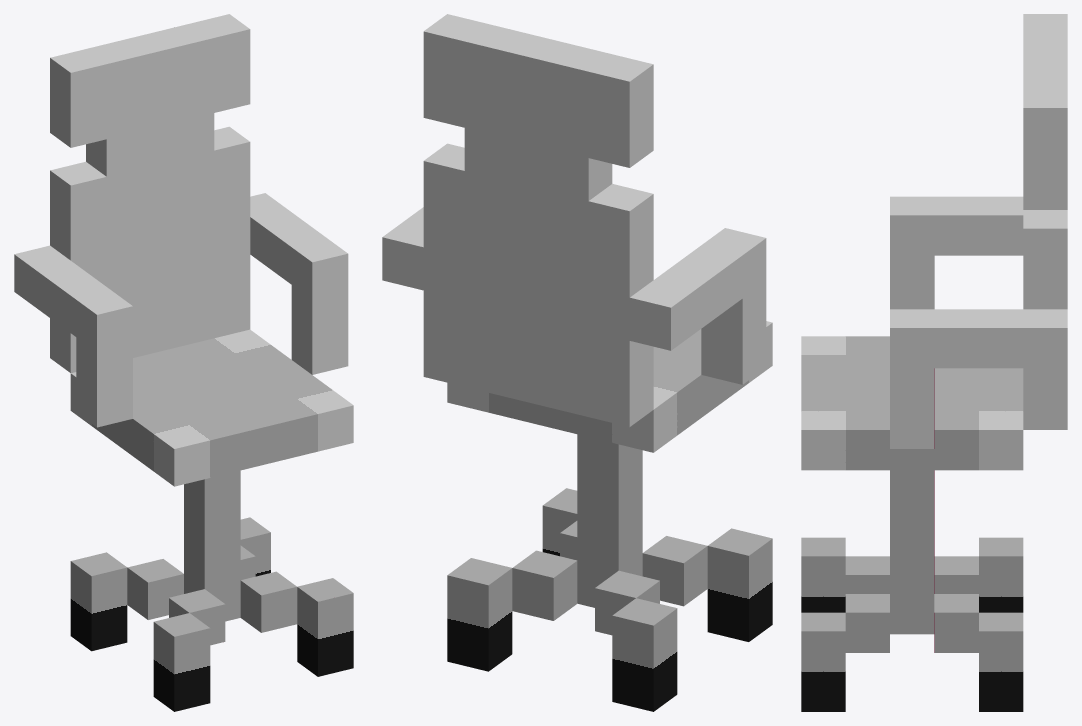
Rendered from Teacher Chair_94.obj.
The picture shows the model from 3 angles, left to right: view 1: azimuth 30°, elevation 25°; view 2: azimuth 150°, elevation 25°; view 3: azimuth 270°, elevation 25°; orthographic projection. The views are drawn at different scales.
Parts seen in each view (by area): view 1: Teacher_Chair_94; view 2: Teacher_Chair_94; view 3: Teacher_Chair_94.
Boxes of the visible parts, bbox=[...] form: Teacher_Chair_94: bbox=[14, 14, 353, 711]; Teacher_Chair_94: bbox=[382, 14, 772, 711]; Teacher_Chair_94: bbox=[801, 14, 1067, 711].
Bounding box in the file's own units: 0.7 × 1.5 × 0.6.
Materials: 1 (1 with a texture image).
